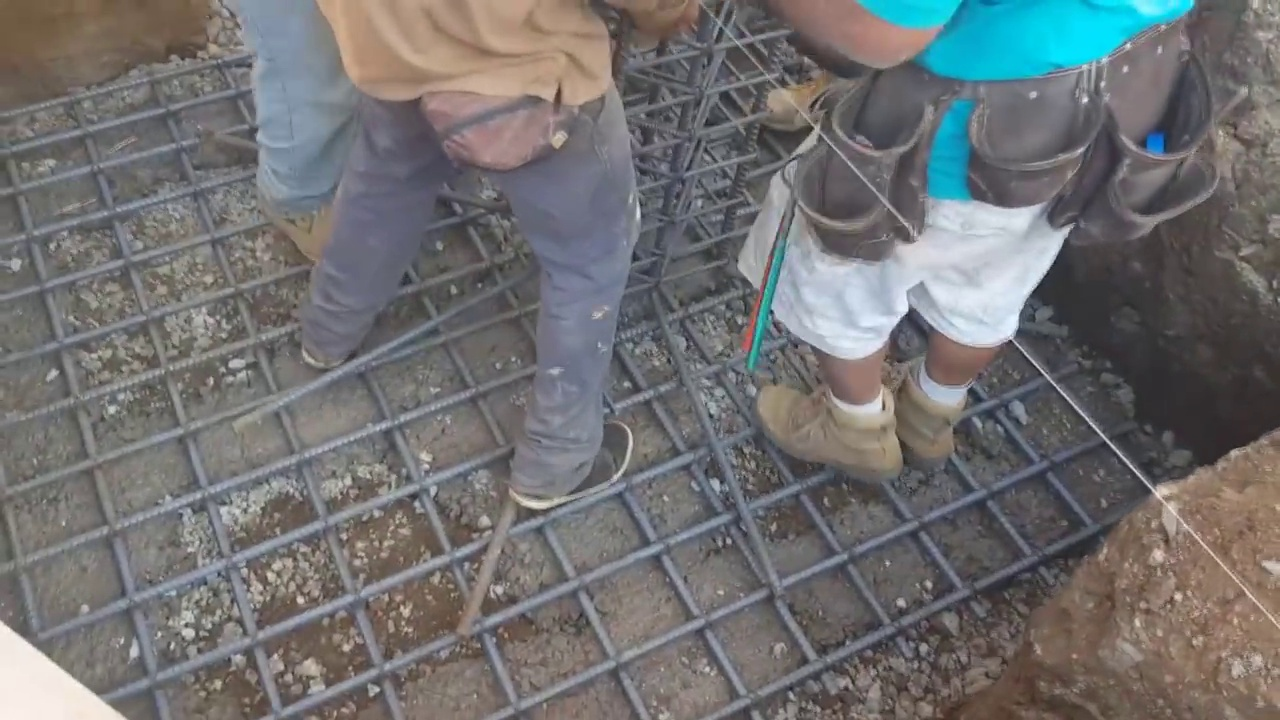person: (730, 0, 1222, 488), (228, 3, 695, 511)
